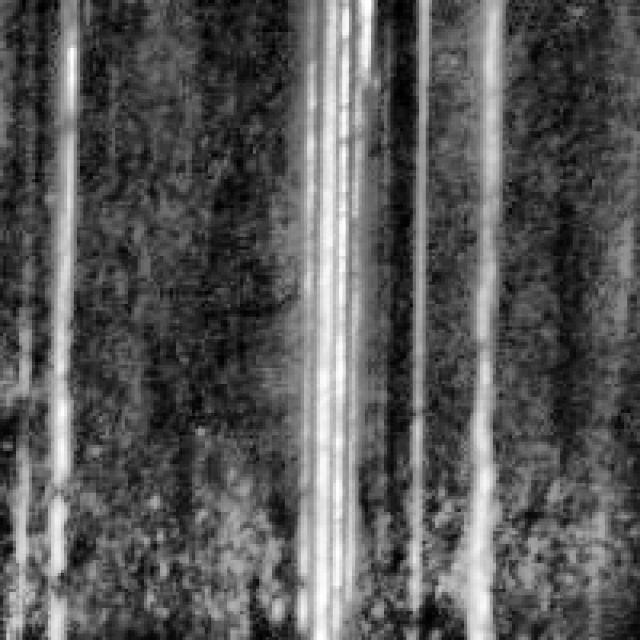Inclusion: (278, 0, 404, 627), (445, 0, 512, 624), (42, 29, 90, 582)
